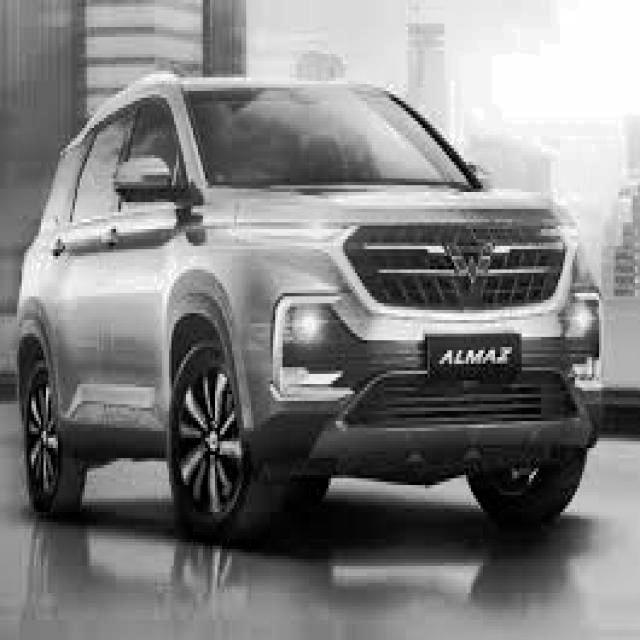Car: (17, 58, 609, 570)
